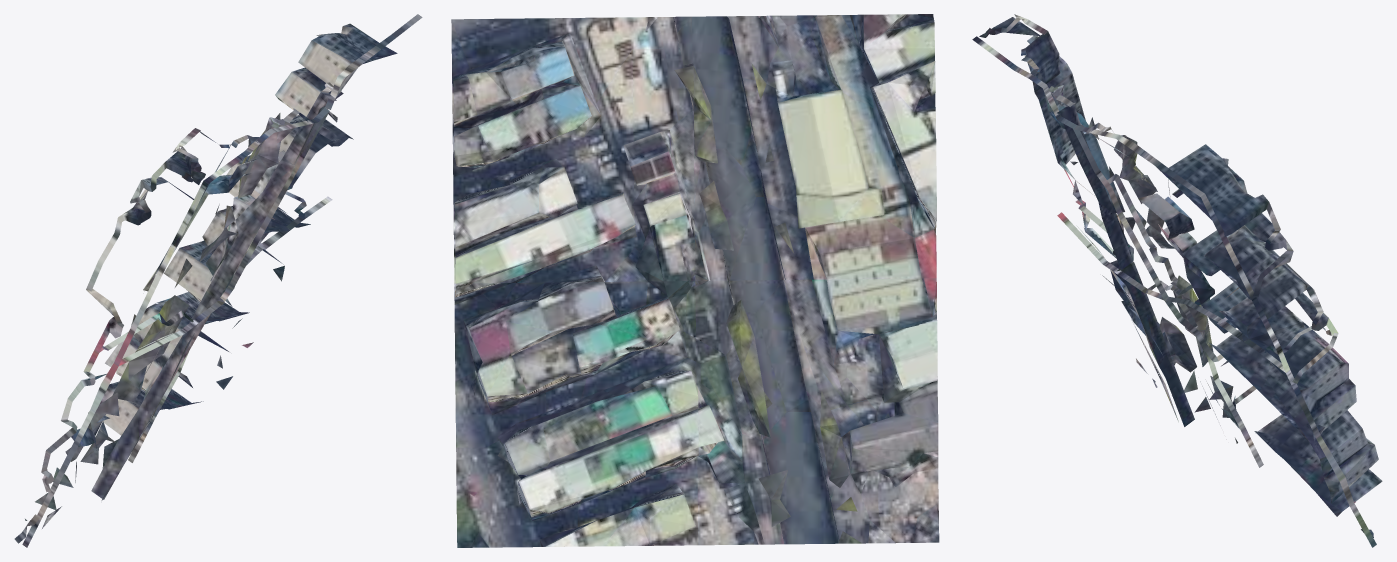
The picture shows the model from 3 angles, left to right: view 1: azimuth 30°, elevation 25°; view 2: azimuth 150°, elevation 25°; view 3: azimuth 270°, elevation 25°; orthographic projection. The views are drawn at different scales.
Bounding box in the file's own units: 154 × 148 × 130.
Materials: 1 (1 with a texture image).
